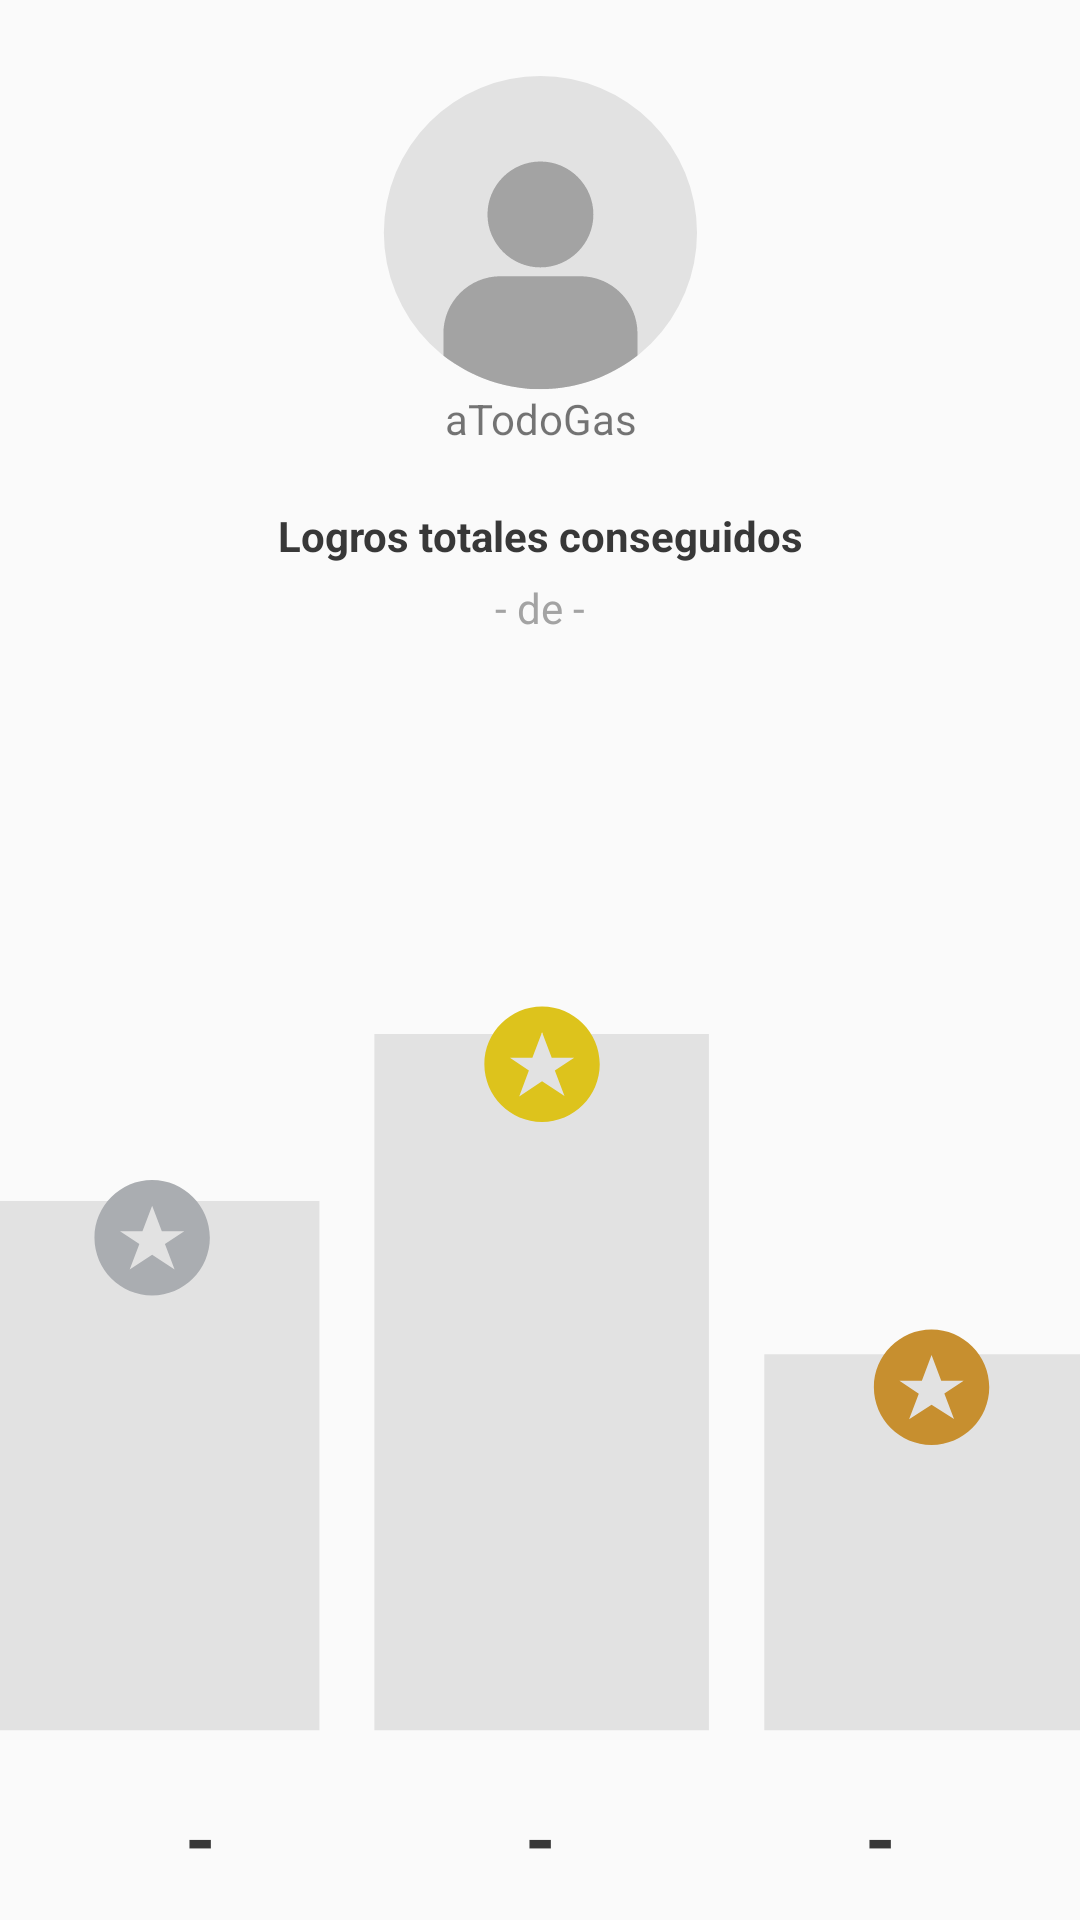

Locate icon controls on the screen. Image size 1080x1920, boxes as box(x1, y1, x2, y2).
account profile: box(443, 161, 638, 389)
